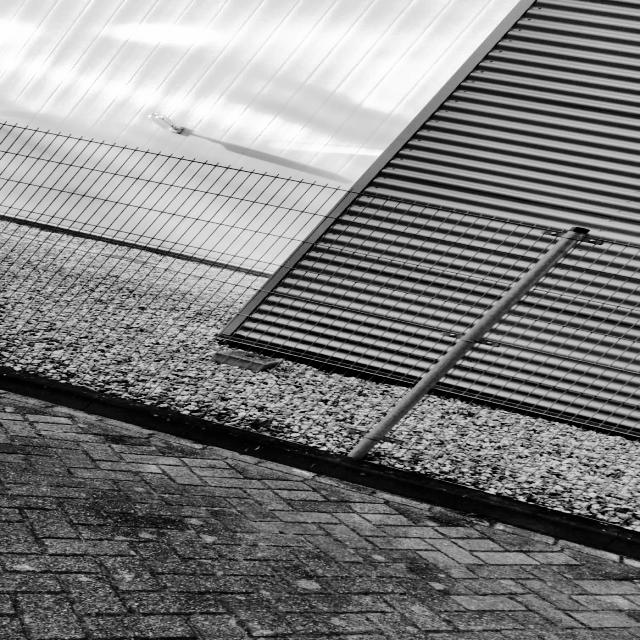fences: (60, 186, 640, 482)
